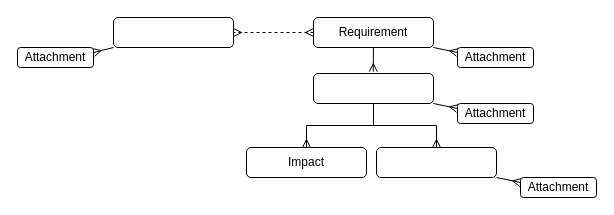
This 614x215 diagram has some shape labels left out. The shapes that lost their labels are listed below. From the top down, each one's box as (x1, y1, x2, y2) in pixels, then its label:
(112, 16, 234, 48): Checklist
(312, 72, 434, 104): Option
(376, 146, 496, 178): Instruction
